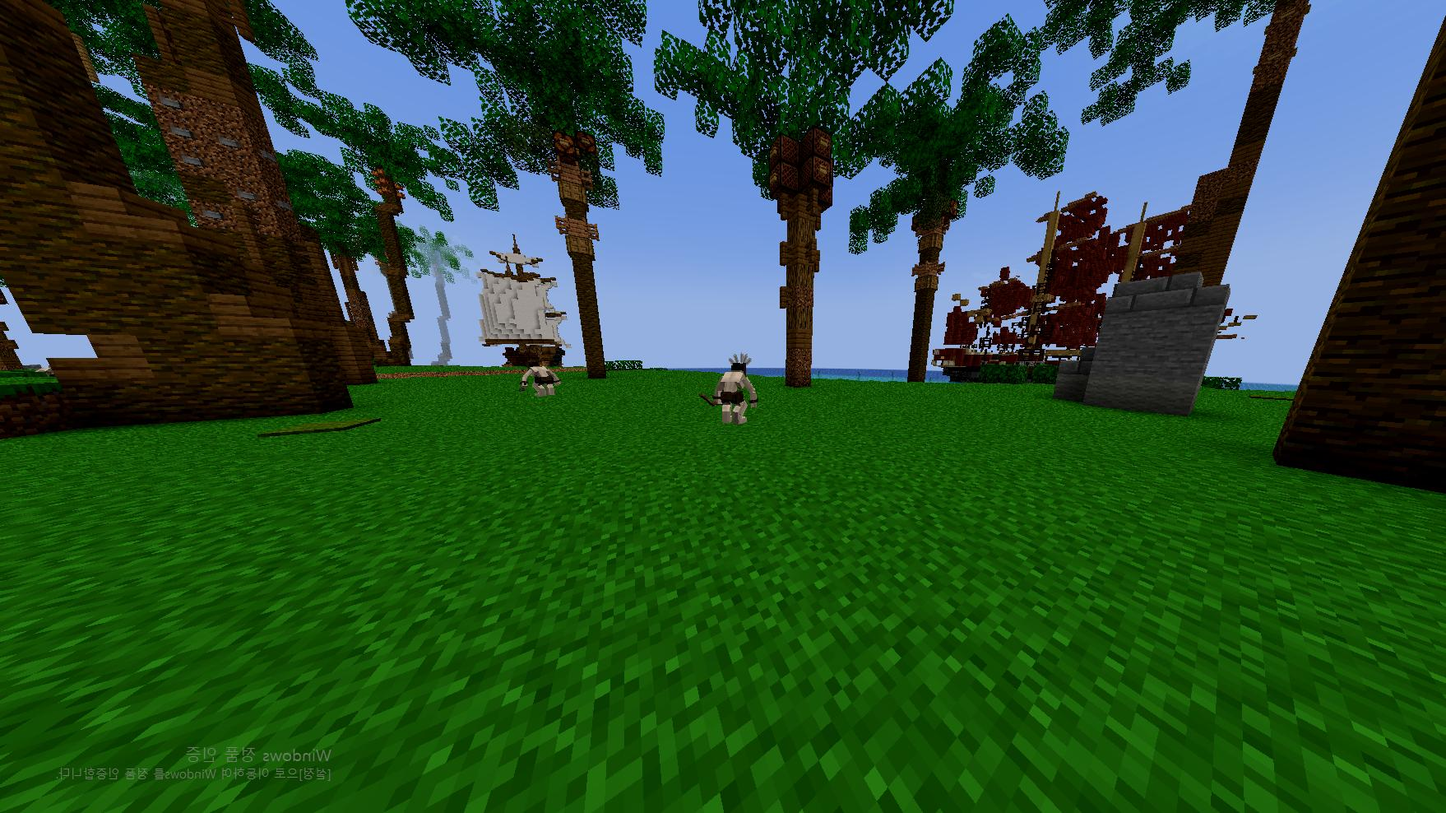bow_indian: (687, 347, 761, 442)
